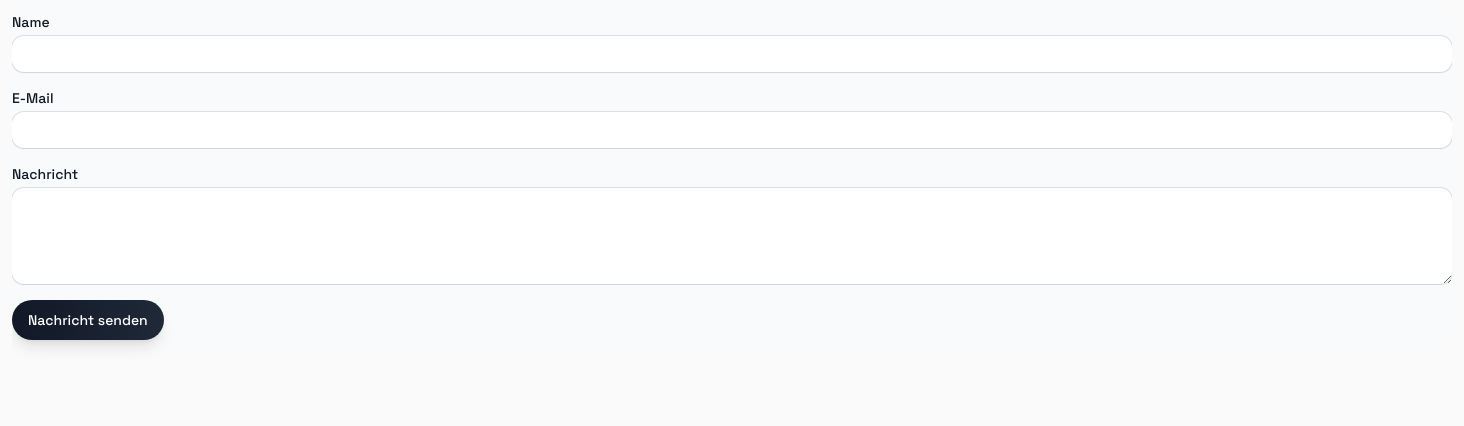
ContactForm › mostra mensagens de validação
This screenshot has width=1464, height=426.
Click the button "Nachricht senden" at (88, 320), box [12, 300, 164, 340]
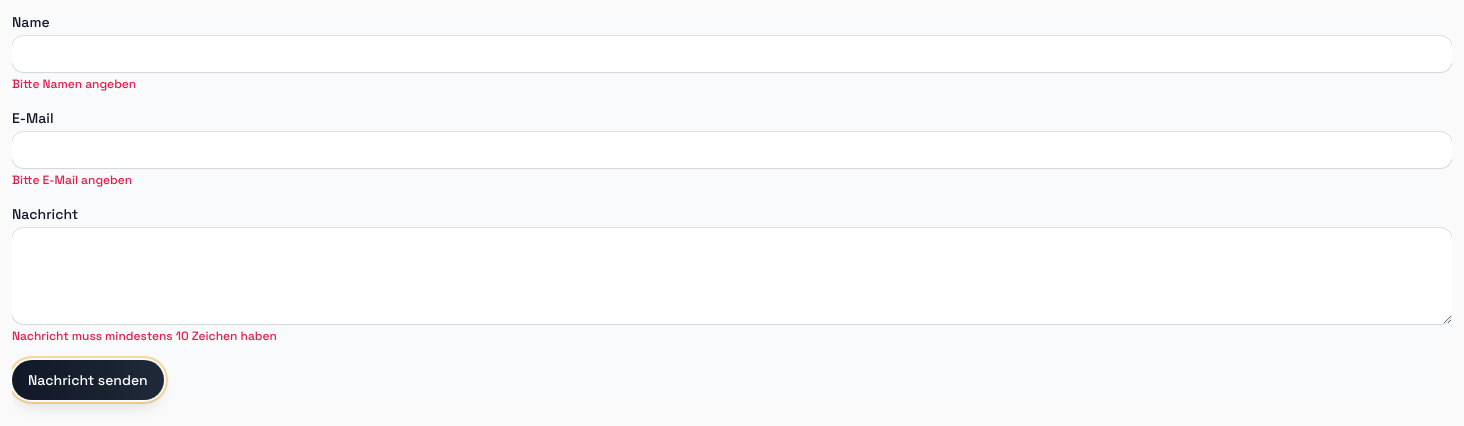
Expected: the text "Bitte Namen angeben" is shown, [12, 76, 136, 92]
Expected: the text "Bitte E-Mail angeben" is shown, [12, 172, 132, 188]
Expected: the text "Nachricht muss mindestens 10 Zeichen haben" is shown, [12, 328, 277, 344]
